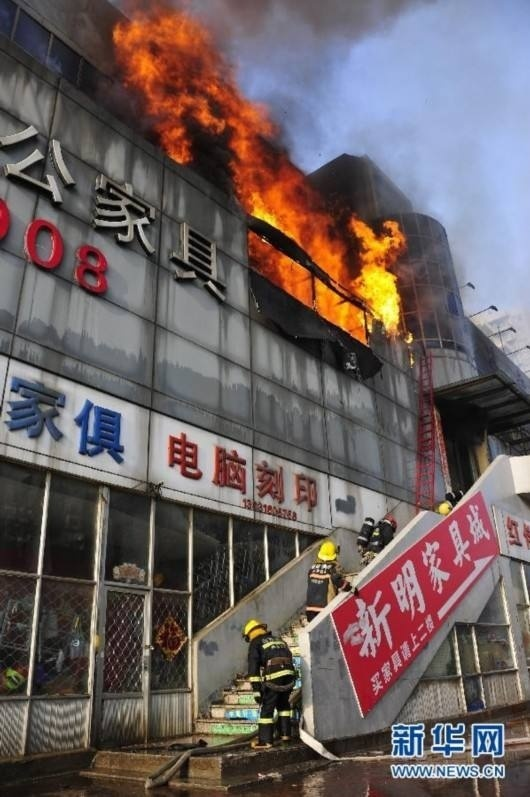fire: (119, 0, 427, 357)
